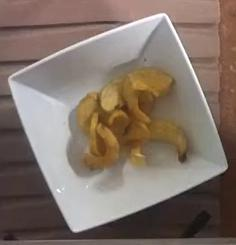fries: (76, 67, 185, 168)
